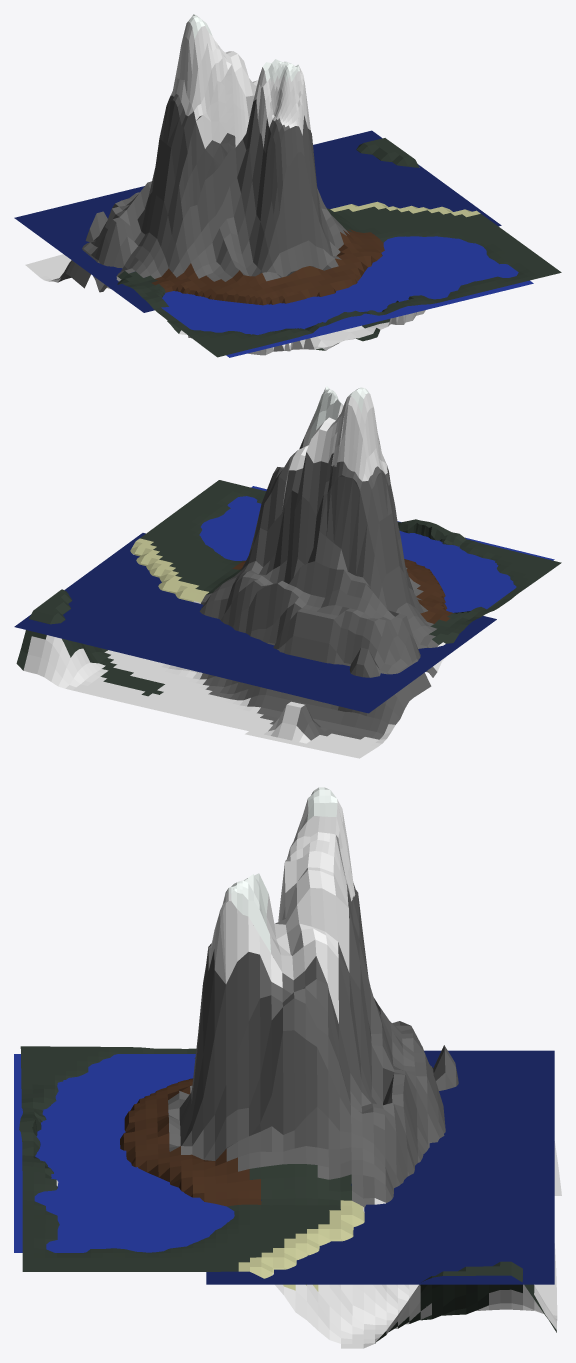
Rendered from patch 6_1.0.5_merged_testForLive.glb.
3 views of the same model, one above another, from view 1: azimuth 30°, elevation 25°; view 2: azimuth 150°, elevation 25°; view 3: azimuth 270°, elevation 25° (orthographic). The views are drawn at different scales.
Visible parts, largest first — view 1: 6, lakeWater, Sea; view 2: 6, Sea, lakeWater; view 3: 6, Sea, lakeWater.
Part boxes in pixels (x1,y1,x2,y2): 6: (25, 14, 561, 357); lakeWater: (161, 236, 533, 357); Sea: (14, 130, 501, 312); 6: (16, 386, 561, 758); Sea: (14, 533, 496, 713); lakeWater: (199, 486, 554, 612); 6: (19, 787, 561, 1348); Sea: (206, 1050, 554, 1284); lakeWater: (14, 1054, 234, 1252).
Size of the model in its own units: 104 by 80.57 by 103.
